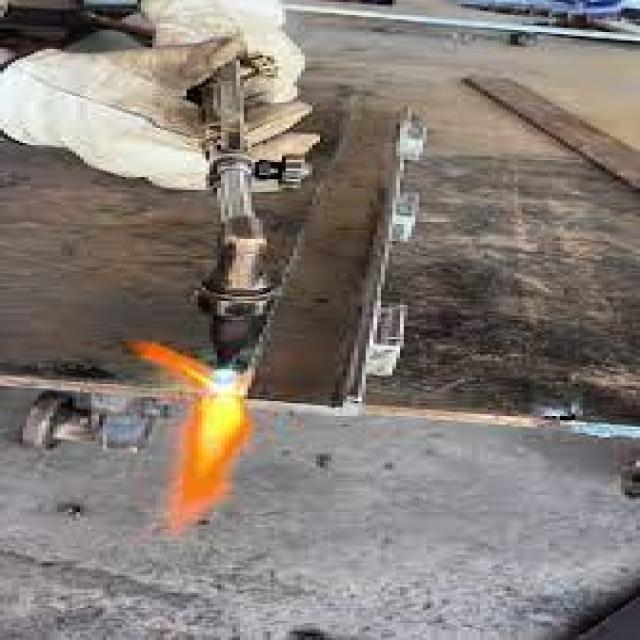fire: (163, 394, 251, 541), (123, 340, 255, 392)
